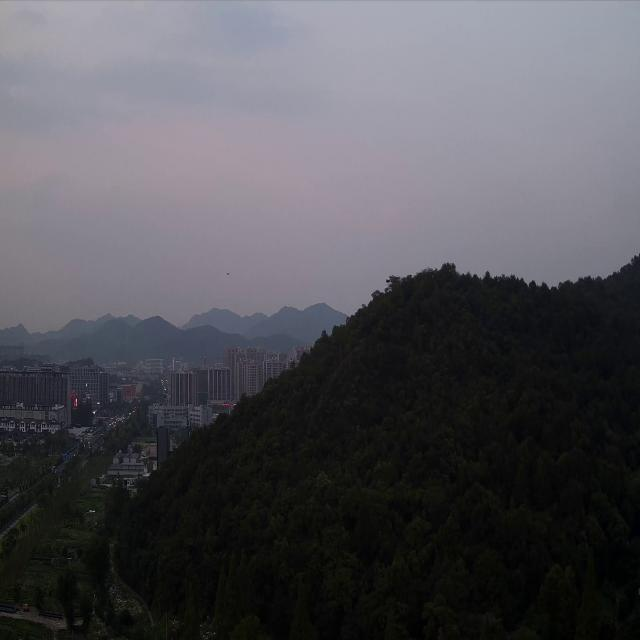UAV: (227, 272, 230, 274)
